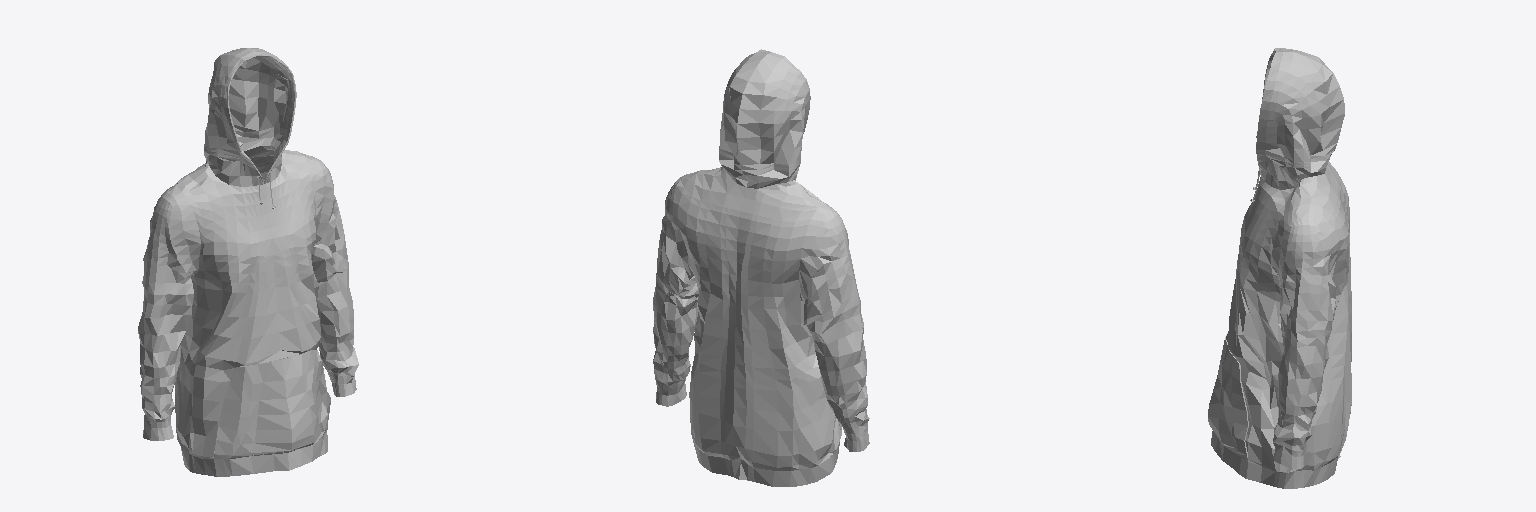
Rendered from Hodie.obj.
The picture shows the model from 3 angles: view 1: azimuth 30°, elevation 25°; view 2: azimuth 150°, elevation 25°; view 3: azimuth 270°, elevation 25°; orthographic projection.
Visible parts, largest first — view 1: Body_lp, imageHolder_Body_lp.001, bottom_cuff, sleeve_cuffs; view 2: Body_lp, bottom_cuff, sleeve_cuffs; view 3: Body_lp, bottom_cuff, imageHolder_Body_lp.001, sleeve_cuffs.
Part boxes in pixels (x1,y1,x2,y2): Body_lp: (138,48,358,458); imageHolder_Body_lp.001: (228,217,314,317); bottom_cuff: (181,434,327,476); sleeve_cuffs: (143,375,356,440); Body_lp: (653,49,869,470); bottom_cuff: (693,441,839,486); sleeve_cuffs: (656,379,869,451); Body_lp: (1208,48,1351,472); bottom_cuff: (1211,431,1340,488); imageHolder_Body_lp.001: (1232,206,1252,312); sleeve_cuffs: (1273,444,1304,468).
Bounding box in the file's own units: 58.45 × 106 × 34.33.